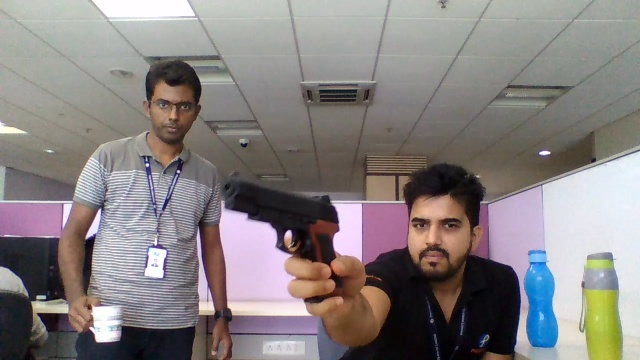gun: (221, 171, 341, 258)
